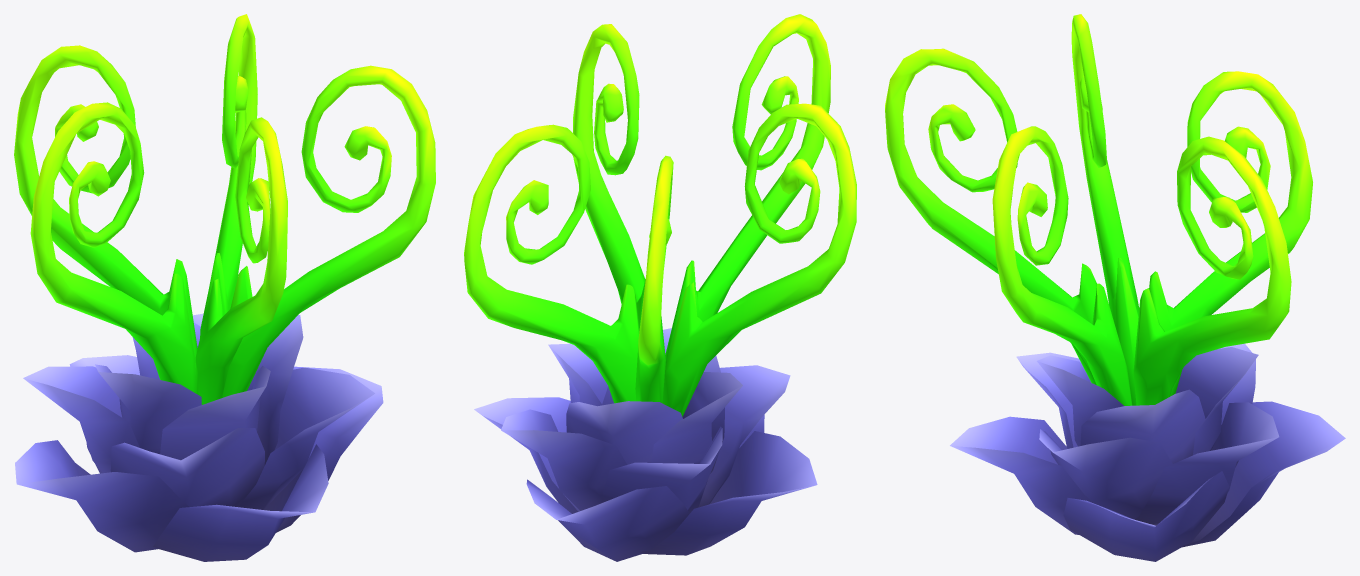
File: spiral_bloom.glb
3 renders of one model, left to right at view 1: azimuth 30°, elevation 25°; view 2: azimuth 150°, elevation 25°; view 3: azimuth 270°, elevation 25°, orthographic. The views are drawn at different scales.
Parts seen in each view (by area): view 1: Spiral Bloom; view 2: Spiral Bloom; view 3: Spiral Bloom.
Part boxes in pixels (left/top/right/bottom): Spiral Bloom: left=14, top=14, right=435, bottom=561; Spiral Bloom: left=464, top=14, right=856, bottom=561; Spiral Bloom: left=885, top=14, right=1345, bottom=561.
Size of the model in its own units: 1.8 by 2.25 by 2.02.
1 material, 1 textured.
